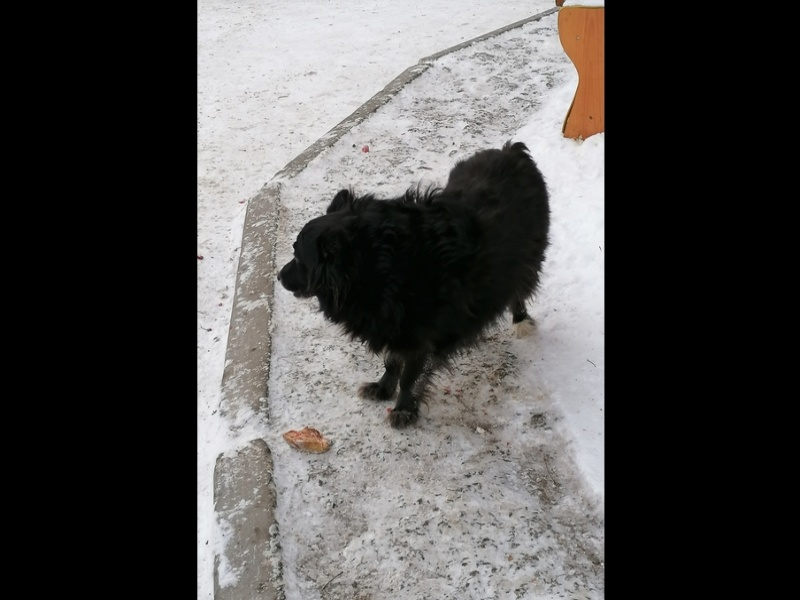dog: (269, 133, 568, 437)
